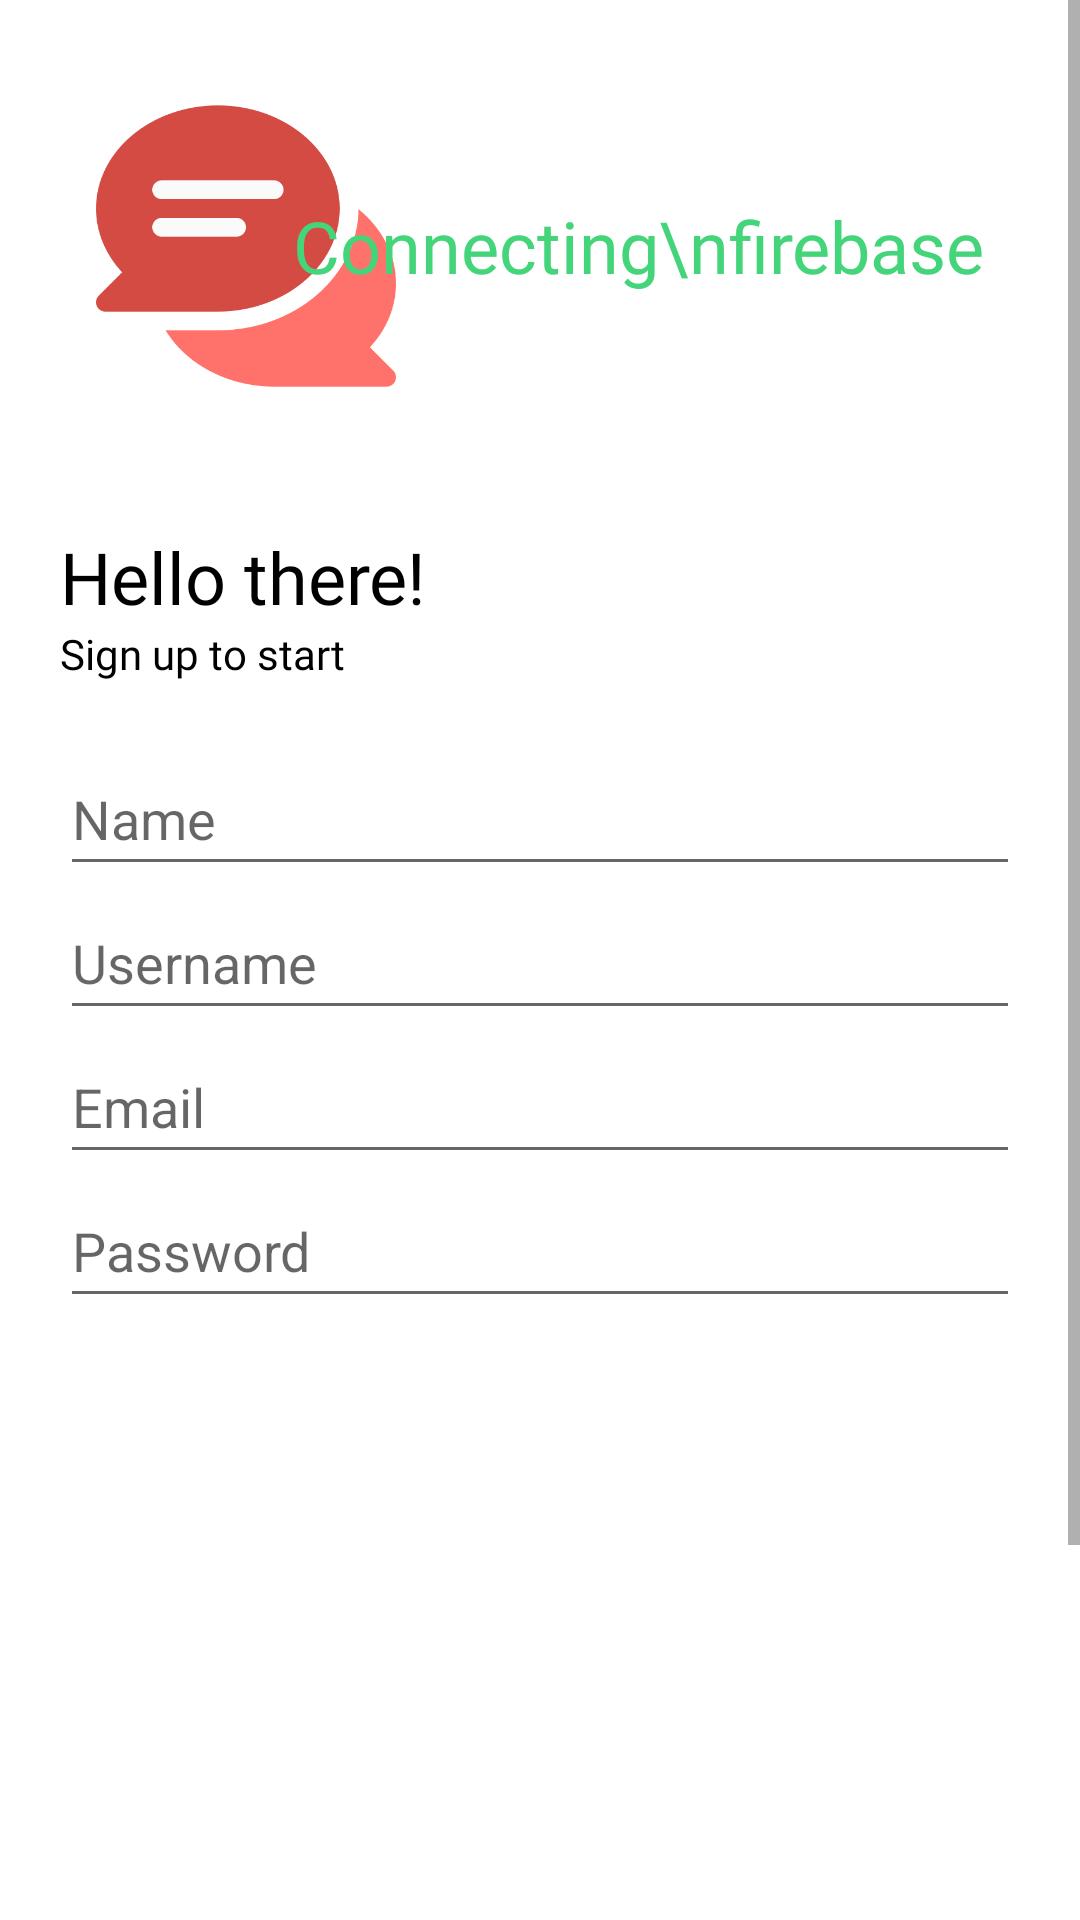

Icon click points for this 1080w x 1920h phone screenshot, format (x=x, y=y):
chat: (x=218, y=208)
